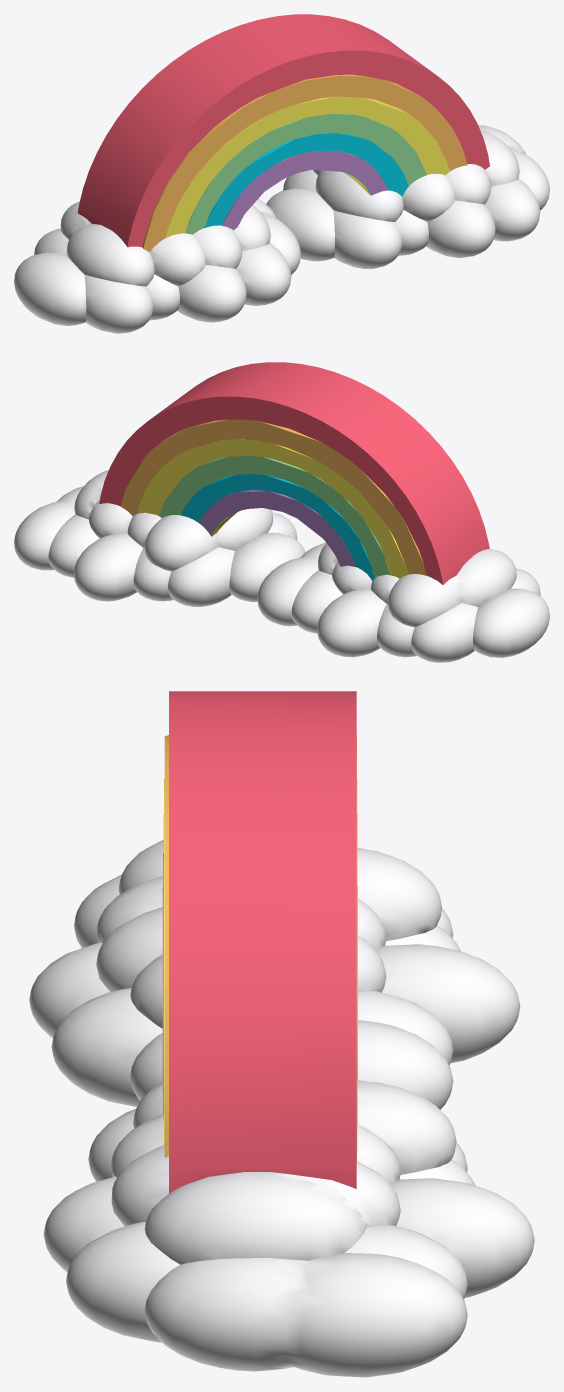
The model's file is rainbow.glb.
3 renders of one model, top to bottom at view 1: azimuth 30°, elevation 25°; view 2: azimuth 150°, elevation 25°; view 3: azimuth 270°, elevation 25°, orthographic. The views are drawn at different scales.
Parts seen in each view (by area): view 1: Object_2; view 2: Object_2; view 3: Object_2.
Boxes of the visible parts, x1=… form: Object_2: x1=14, y1=14, x2=549, y2=333; Object_2: x1=14, y1=362, x2=549, y2=662; Object_2: x1=29, y1=691, x2=534, y2=1377.
Bounding box in the file's own units: 21.47 × 8.91 × 9.55.
1 material, 1 textured.
